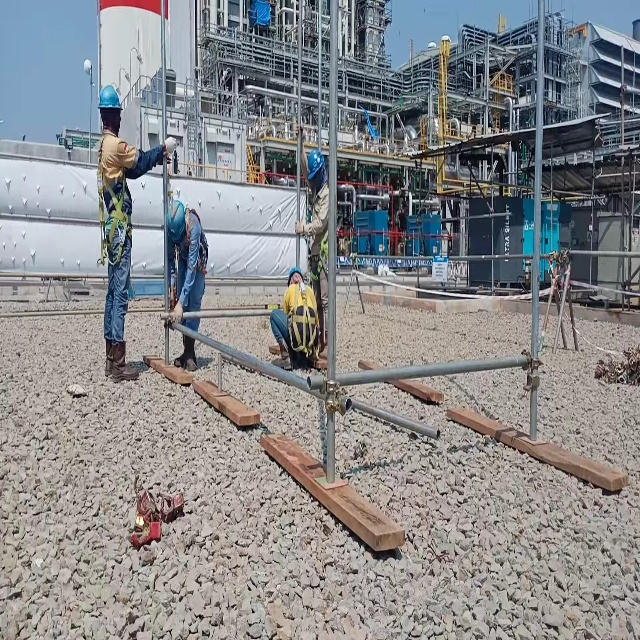Arnes_seguridad: (96, 122, 133, 268), (285, 279, 321, 361), (180, 203, 211, 280), (309, 188, 329, 282)
